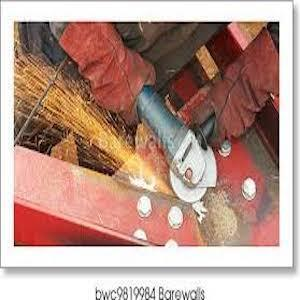heat: (18, 57, 174, 194)
